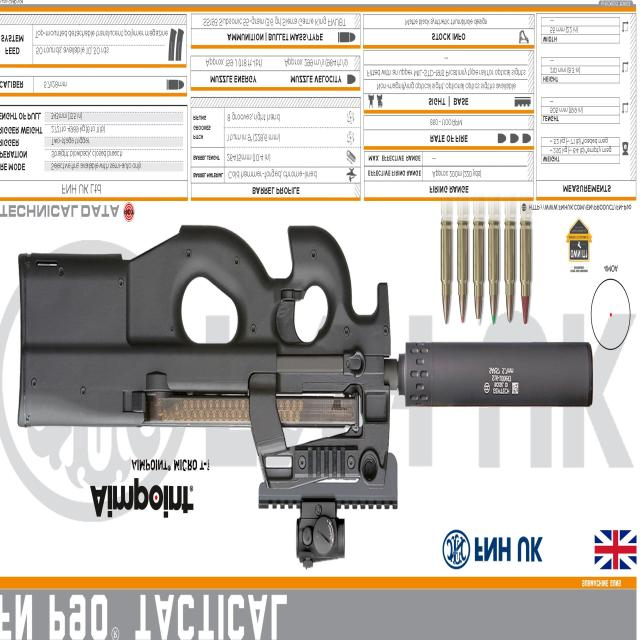Gun: (7, 224, 604, 554)
